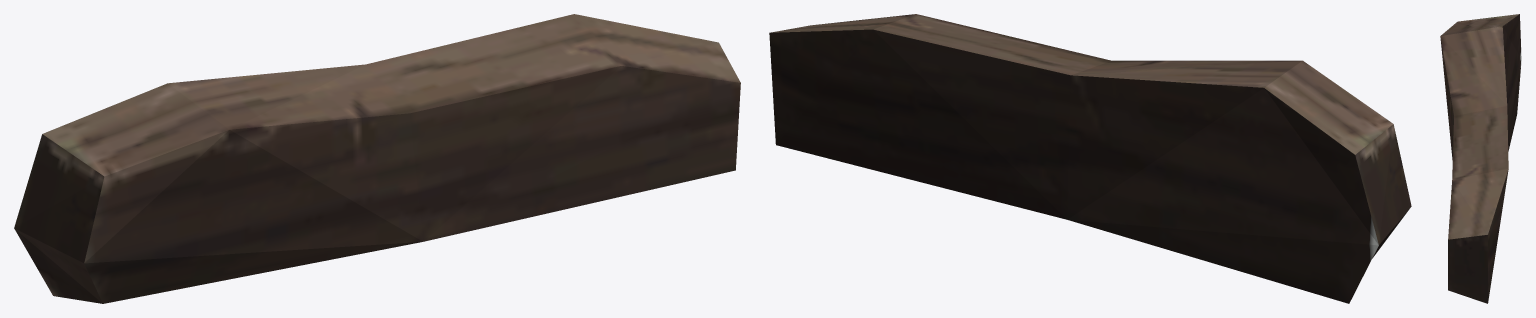
Rendered from bandit_beam_01.fbx.
The picture shows the model from 3 angles, left to right: view 1: azimuth 30°, elevation 25°; view 2: azimuth 150°, elevation 25°; view 3: azimuth 270°, elevation 25°; orthographic projection. The views are drawn at different scales.
Visible parts, largest first — view 1: obj0.574; view 2: obj0.574; view 3: obj0.574.
Part boxes in pixels (x1,y1,x2,y2): obj0.574: [14, 14, 740, 303]; obj0.574: [769, 14, 1411, 303]; obj0.574: [1440, 14, 1521, 303].
Size of the model in its own units: 1.97 by 0.5567 by 0.3396.
